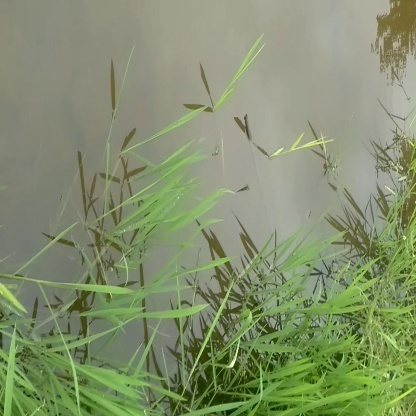grass: (74, 133, 219, 315)
